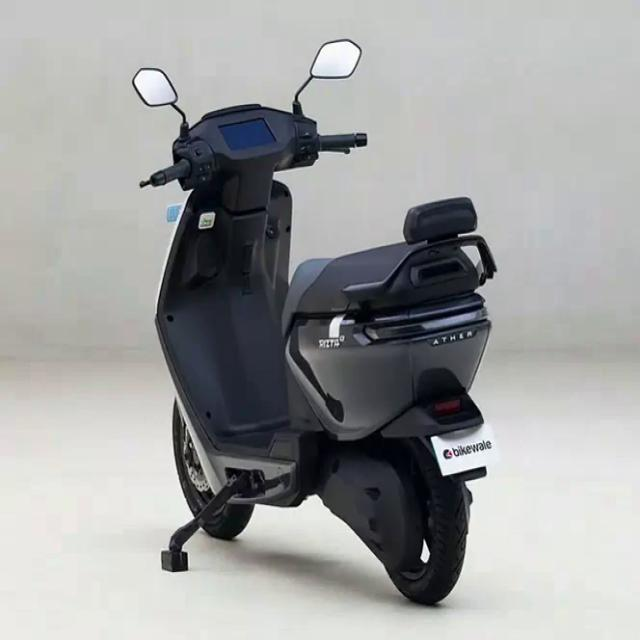objects: (114, 23, 503, 619)
